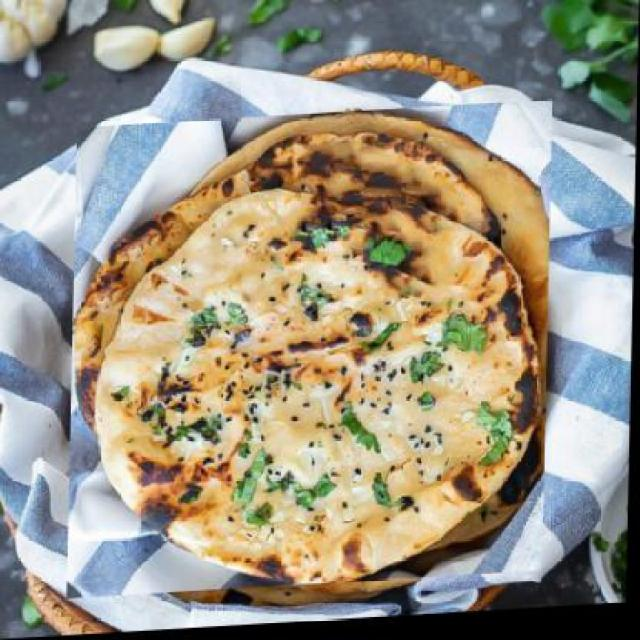chapati: (71, 104, 554, 602)
